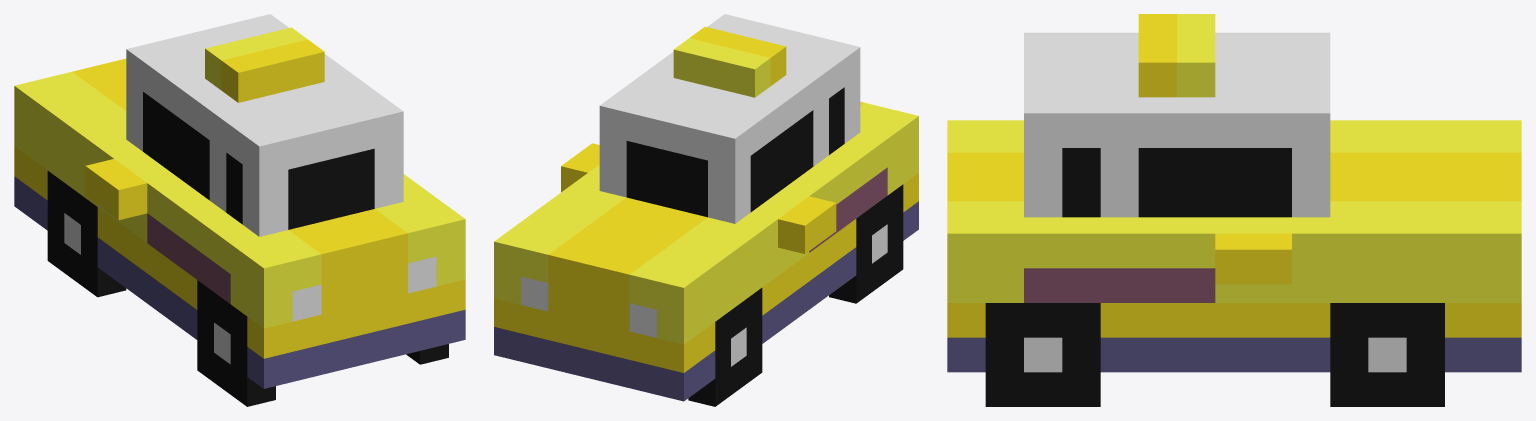
The model's file is taxi.obj.
3 renders of one model, left to right at view 1: azimuth 30°, elevation 25°; view 2: azimuth 150°, elevation 25°; view 3: azimuth 270°, elevation 25°, orthographic. The views are drawn at different scales.
Size of the model in its own units: 9 by 9 by 15.
Materials: 1 (1 with a texture image).
